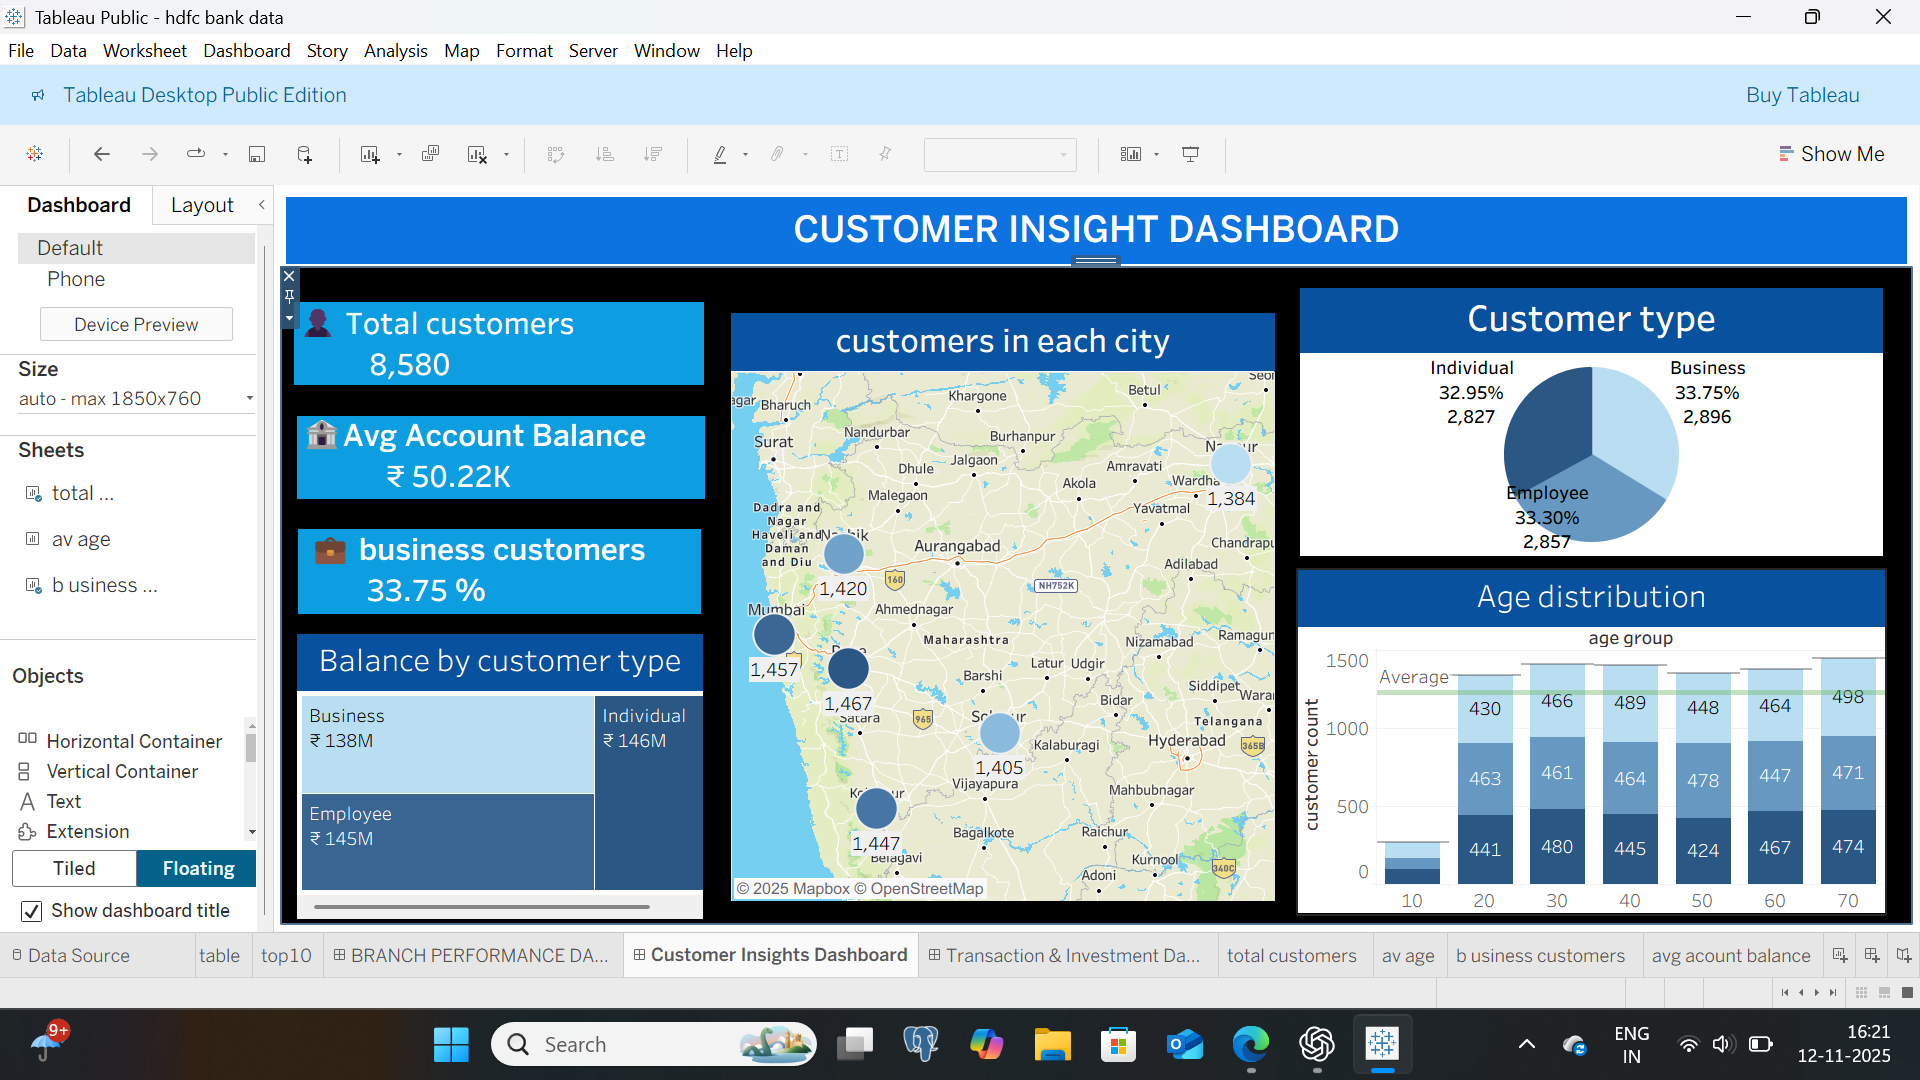

What the dashboard file says about the page in this screenshot:
{"tool":"tableau","page":{"name":"Customer Insights Dashboard","canvas":[1000,1000],"units":"permille","ordinal":1},"visuals":[{"type":"title","box":[4.3,10.7,991.4,100.4]},{"type":"worksheet","title":"total customers","mark":"Automatic","box":[12.2,136.7,333.1,158.2]},{"type":"worksheet","title":"cutomer type","mark":"Pie","box":[623.9,138.4,354.6,358.9]},{"type":"worksheet","title":"cudtomers i  city","mark":"Circle","box":[277.7,171.2,330.5,789]},{"type":"worksheet","title":"avg acount balance","mark":"Automatic","box":[13.7,289,248.4,211]},{"type":"worksheet","title":"b usiness customers","mark":"Automatic","box":[14.3,441.1,247.7,189]},{"type":"worksheet","title":"age","mark":"Automatic","rows":["customer data _3D66E35932264E949DA591D1221E2972"],"cols":["Age (bin) 2"],"box":[622.6,516.4,356.6,460.3]},{"type":"worksheet","title":"customer type balance","mark":"Automatic","box":[14.1,602.4,247,381.5]}]}

Visuals, with their boxes on the dashboard's canvas, which has no fixed pixel size, in thousandths of its width and height (x1, y1, x2, y2). These are canvas units, not pixel positions in the 1920x1080 screenshot, which may show the page scaled, cropped or inside an application window:
title: [4,11,996,111]
"total customers" worksheet: [12,137,345,295]
"cutomer type" worksheet (Pie marks): [624,138,978,497]
"cudtomers i  city" worksheet (Circle marks): [278,171,608,960]
"avg acount balance" worksheet: [14,289,262,500]
"b usiness customers" worksheet: [14,441,262,630]
"age" worksheet: [623,516,979,977]
"customer type balance" worksheet: [14,602,261,984]
